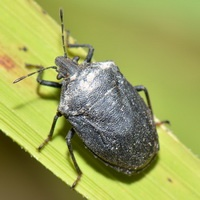insect: (13, 9, 168, 188)
